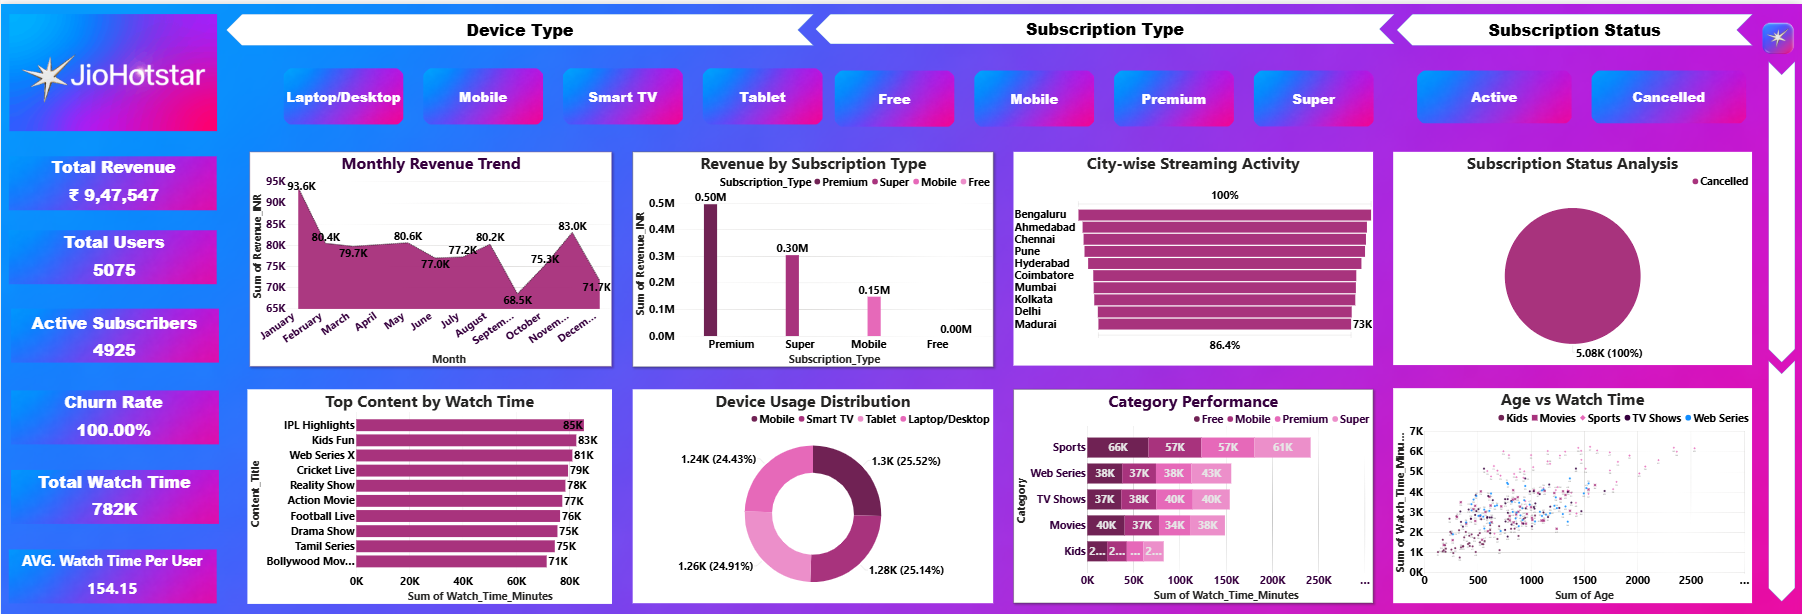

Layout of this report page (visuals, bound fields, positions):
{"tool":"powerbi","page":{"name":"Page 1","canvas":[9000,3045],"ordinal":0},"visuals":[{"type":"image","box":[0,47.7,1121.3,584.5],"z":0},{"type":"lineChart","title":"Monthly Revenue Trend","fields":{"Category":["jio_hotstar_dataset_10000_rows.Date.Variation.Date Hierarchy.Month"],"Y":["Sum(jio_hotstar_dataset_10000_rows.Revenue_INR)"]},"box":[1242.7,737.1,1809.2,1072.1],"z":1000},{"type":"clusteredColumnChart","title":"Revenue by Subscription Type","fields":{"Category":["jio_hotstar_dataset_10000_rows.Subscription_Type"],"Series":["jio_hotstar_dataset_10000_rows.Subscription_Type"],"Y":["Sum(jio_hotstar_dataset_10000_rows.Revenue_INR)"]},"box":[3158.4,737.3,1802.2,1074],"z":2000},{"type":"clusteredBarChart","title":"Top Content by Watch Time","fields":{"Category":["jio_hotstar_dataset_10000_rows.Content_Title"],"Y":["Sum(jio_hotstar_dataset_10000_rows.Watch_Time_Minutes)"]},"box":[1230.5,1925,1821.4,1072.1],"z":3000},{"type":"donutChart","title":"Device Usage Distribution","fields":{"Category":["jio_hotstar_dataset_10000_rows.Device"],"Y":["CountNonNull(jio_hotstar_dataset_10000_rows.User_ID)"]},"box":[3155,1925.2,1800.6,1069],"z":4000},{"type":"funnel","title":"City-wise Streaming Activity","fields":{"Category":["jio_hotstar_dataset_10000_rows.City"],"Y":["Sum(jio_hotstar_dataset_10000_rows.Watch_Time_Minutes)"]},"box":[5056.7,736.2,1796.1,1068],"z":5000},{"type":"barChart","title":"Category Performance","fields":{"Category":["jio_hotstar_dataset_10000_rows.Category"],"Series":["jio_hotstar_dataset_10000_rows.Subscription_Type"],"Y":["Sum(jio_hotstar_dataset_10000_rows.Watch_Time_Minutes)"]},"box":[5056.7,1925.6,1796.1,1068],"z":6000},{"type":"pieChart","title":"Subscription Status Analysis","fields":{"Category":["jio_hotstar_dataset_10000_rows.Subscription_Status"],"Y":["CountNonNull(jio_hotstar_dataset_10000_rows.User_ID)"]},"box":[6953.9,737.3,1793.1,1064.9],"z":7000},{"type":"scatterChart","title":"Age vs Watch Time","fields":{"Category":["jio_hotstar_dataset_10000_rows.Age"],"Series":["jio_hotstar_dataset_10000_rows.Category"],"X":["Sum(jio_hotstar_dataset_10000_rows.Age)"],"Y":["Sum(jio_hotstar_dataset_10000_rows.Watch_Time_Minutes)"]},"box":[6953.9,1920.5,1793.1,1074],"z":8000},{"type":"advancedSlicerVisual","title":"Device Type","fields":{"Values":["jio_hotstar_dataset_10000_rows.Device"]},"box":[1297.4,284.3,2755.2,342.6],"z":9000},{"type":"shape","box":[1123.1,49.9,2936.8,158.1],"z":10000},{"type":"shape","box":[8827,282.9,133.1,1505.8],"z":11000},{"type":"image","box":[40.9,760.4,1038.3,269.8],"z":12000},{"type":"image","box":[40.9,2722.6,1038.3,269.8],"z":13000},{"type":"image","box":[49.1,2330.1,1038.3,269.8],"z":14000},{"type":"image","box":[49.1,1929.5,1038.3,269.8],"z":15000},{"type":"image","box":[49.1,1520.7,1038.3,269.8],"z":16000},{"type":"image","box":[40.9,1128.3,1038.3,269.8],"z":17000},{"type":"card","title":"Total Revenue","fields":{"Values":["Sum(jio_hotstar_dataset_10000_rows.Revenue_INR)"]},"box":[49.9,757.1,1023.3,274.5],"z":18000},{"type":"card","title":"Total Users","fields":{"Values":["CountNonNull(jio_hotstar_dataset_10000_rows.User_ID)"]},"box":[49.1,1128.3,1030.2,269.8],"z":19000},{"type":"card","title":"Total Watch Time","fields":{"Values":["Sum(jio_hotstar_dataset_10000_rows.Watch_Time_Minutes)"]},"box":[49.9,2329.5,1031.6,266.2],"z":20000},{"type":"card","title":"AVG. Watch Time Per User","fields":{"Values":["jio_hotstar_dataset_10000_rows.Avg Watch Time"]},"box":[41.6,2728.8,1031.6,266.2],"z":21000},{"type":"card","title":"Active Subscribers","fields":{"Values":["jio_hotstar_dataset_10000_rows.Active Subscribers"]},"box":[49.9,1530.8,1031.6,266.2],"z":22000},{"type":"card","title":"Churn Rate","fields":{"Values":["jio_hotstar_dataset_10000_rows.Churn Rate"]},"box":[49.9,1930.1,1023.3,266.2],"z":23000},{"type":"shape","box":[4068.2,49.9,2895.2,149.8],"z":24000},{"type":"shape","box":[6971.7,49.9,1780.4,158.1],"z":25000},{"type":"shape","box":[8827,1780.4,133.1,1206.3],"z":26000},{"type":"advancedSlicerVisual","title":"Device Type","fields":{"Values":["jio_hotstar_dataset_10000_rows.Subscription_Type"]},"box":[4134.8,299.5,2753.8,341.1],"z":27000},{"type":"advancedSlicerVisual","title":"Device Type","fields":{"Values":["jio_hotstar_dataset_10000_rows.Subscription_Status"]},"box":[7046.6,299.5,1705.5,324.5],"z":28000},{"type":"image","box":[8748.2,0,253.5,343.4],"z":29000}]}

Visuals, with their boxes in screenshot pixels (x1, y1, x2, y2), scaled from the page's 9000x3045 canvas onto the 1802x614 screenshot:
image: {"left": 0, "top": 10, "right": 225, "bottom": 127}
"Monthly Revenue Trend" lineChart: {"left": 249, "top": 149, "right": 611, "bottom": 365}
"Revenue by Subscription Type" clusteredColumnChart: {"left": 632, "top": 149, "right": 993, "bottom": 365}
"Top Content by Watch Time" clusteredBarChart: {"left": 246, "top": 388, "right": 611, "bottom": 604}
"Device Usage Distribution" donutChart: {"left": 632, "top": 388, "right": 992, "bottom": 604}
"City-wise Streaming Activity" funnel: {"left": 1012, "top": 148, "right": 1372, "bottom": 364}
"Category Performance" barChart: {"left": 1012, "top": 388, "right": 1372, "bottom": 604}
"Subscription Status Analysis" pieChart: {"left": 1392, "top": 149, "right": 1751, "bottom": 363}
"Age vs Watch Time" scatterChart: {"left": 1392, "top": 387, "right": 1751, "bottom": 604}
"Device Type" advancedSlicerVisual: {"left": 260, "top": 57, "right": 811, "bottom": 126}
shape: {"left": 225, "top": 10, "right": 813, "bottom": 42}
shape: {"left": 1767, "top": 57, "right": 1794, "bottom": 361}
image: {"left": 8, "top": 153, "right": 216, "bottom": 208}
image: {"left": 8, "top": 549, "right": 216, "bottom": 603}
image: {"left": 10, "top": 470, "right": 218, "bottom": 524}
image: {"left": 10, "top": 389, "right": 218, "bottom": 443}
image: {"left": 10, "top": 307, "right": 218, "bottom": 361}
image: {"left": 8, "top": 228, "right": 216, "bottom": 282}
"Total Revenue" card: {"left": 10, "top": 153, "right": 215, "bottom": 208}
"Total Users" card: {"left": 10, "top": 228, "right": 216, "bottom": 282}
"Total Watch Time" card: {"left": 10, "top": 470, "right": 217, "bottom": 523}
"AVG. Watch Time Per User" card: {"left": 8, "top": 550, "right": 215, "bottom": 604}
"Active Subscribers" card: {"left": 10, "top": 309, "right": 217, "bottom": 362}
"Churn Rate" card: {"left": 10, "top": 389, "right": 215, "bottom": 443}
shape: {"left": 815, "top": 10, "right": 1394, "bottom": 40}
shape: {"left": 1396, "top": 10, "right": 1752, "bottom": 42}
shape: {"left": 1767, "top": 359, "right": 1794, "bottom": 602}
"Device Type" advancedSlicerVisual: {"left": 828, "top": 60, "right": 1379, "bottom": 129}
"Device Type" advancedSlicerVisual: {"left": 1411, "top": 60, "right": 1752, "bottom": 126}
image: {"left": 1752, "top": 0, "right": 1801, "bottom": 69}
